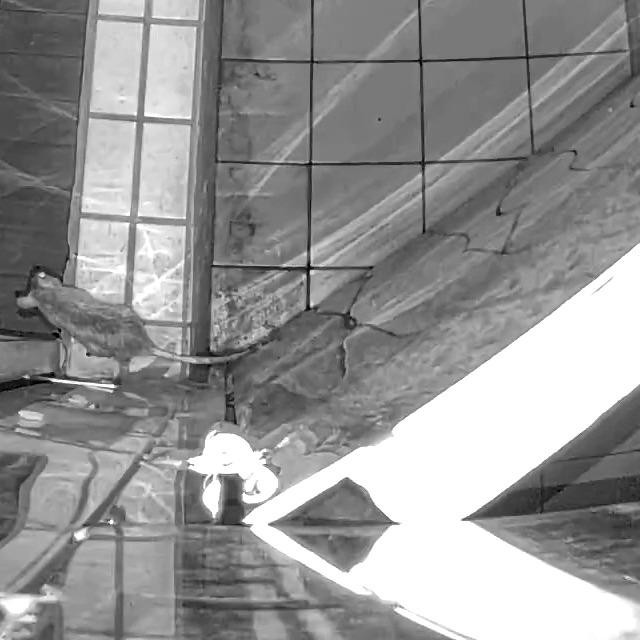rat: (16, 271, 254, 364)
